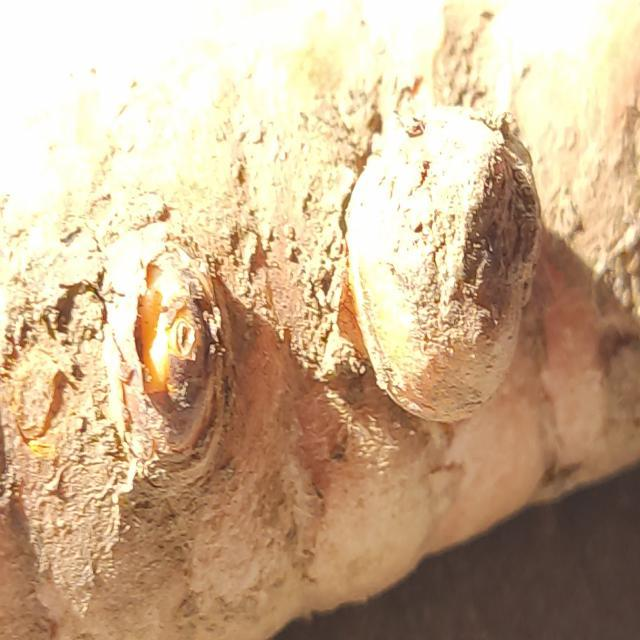ginger: (38, 253, 640, 592)
